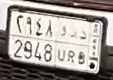2: (13, 14, 26, 59)
4: (33, 16, 44, 62)
8: (42, 18, 53, 64)
9: (24, 15, 34, 60)
D: (76, 30, 89, 65)
R: (66, 27, 78, 64)
U: (56, 24, 67, 65)
